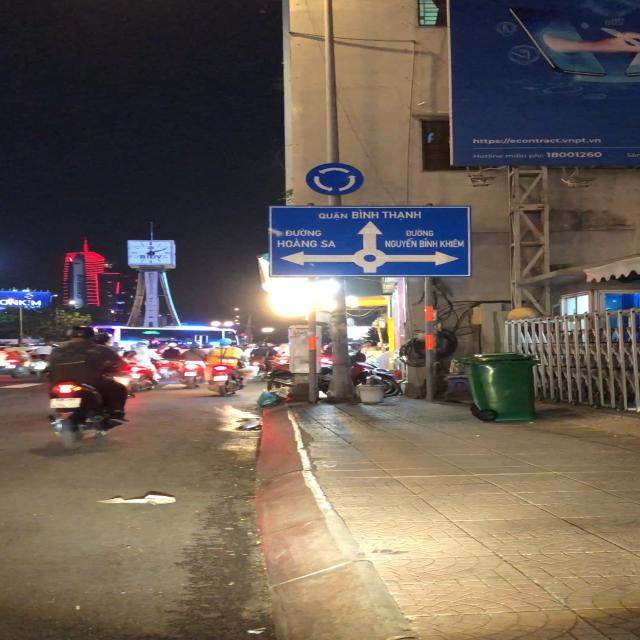Bien bao noi giao nhau chay theo vong xuyen: (305, 162, 367, 197)
